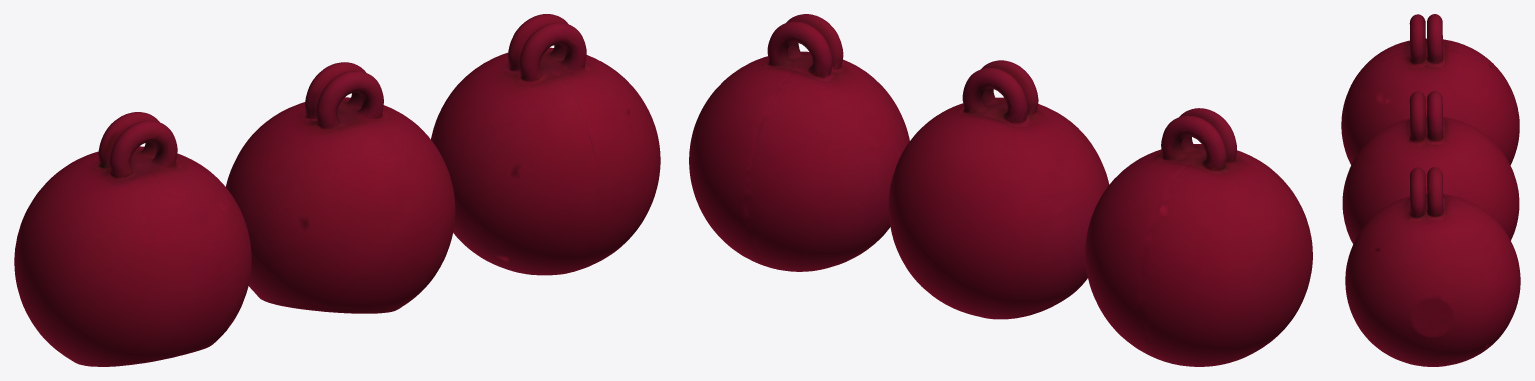
File: bell.glb
3 views of the same model, side by side, from view 1: azimuth 30°, elevation 25°; view 2: azimuth 150°, elevation 25°; view 3: azimuth 270°, elevation 25° (orthographic). The views are drawn at different scales.
Parts seen in each view (by area): view 1: node_0; view 2: node_0; view 3: node_0.
Boxes of the visible parts, box(x1,y1,x2,y2) form: node_0: box(14, 14, 660, 366); node_0: box(689, 14, 1312, 366); node_0: box(1341, 14, 1520, 366).
Bounding box in the file's own units: 1.19 × 0.4499 × 0.3946.
Materials: 1 (1 with a texture image).
